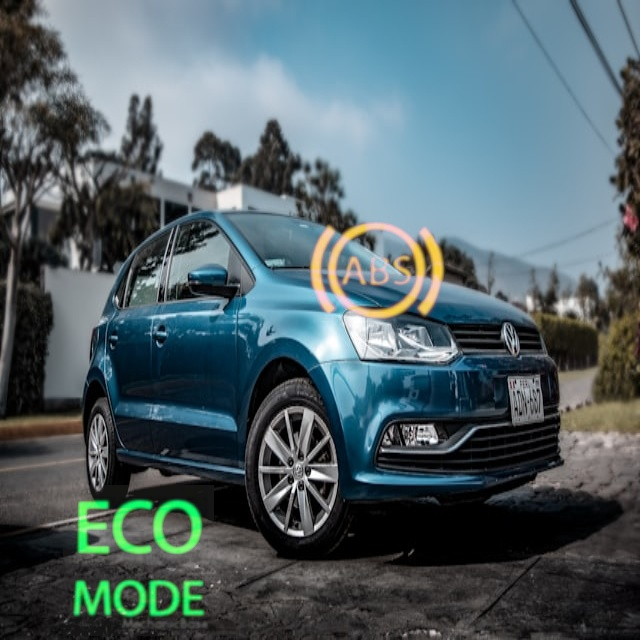symbol: (282, 178, 470, 366), (63, 485, 214, 636)
